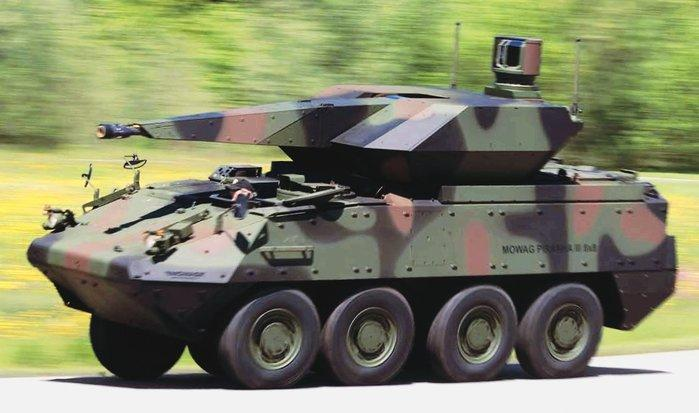MIL_IFV: (23, 24, 678, 391)
